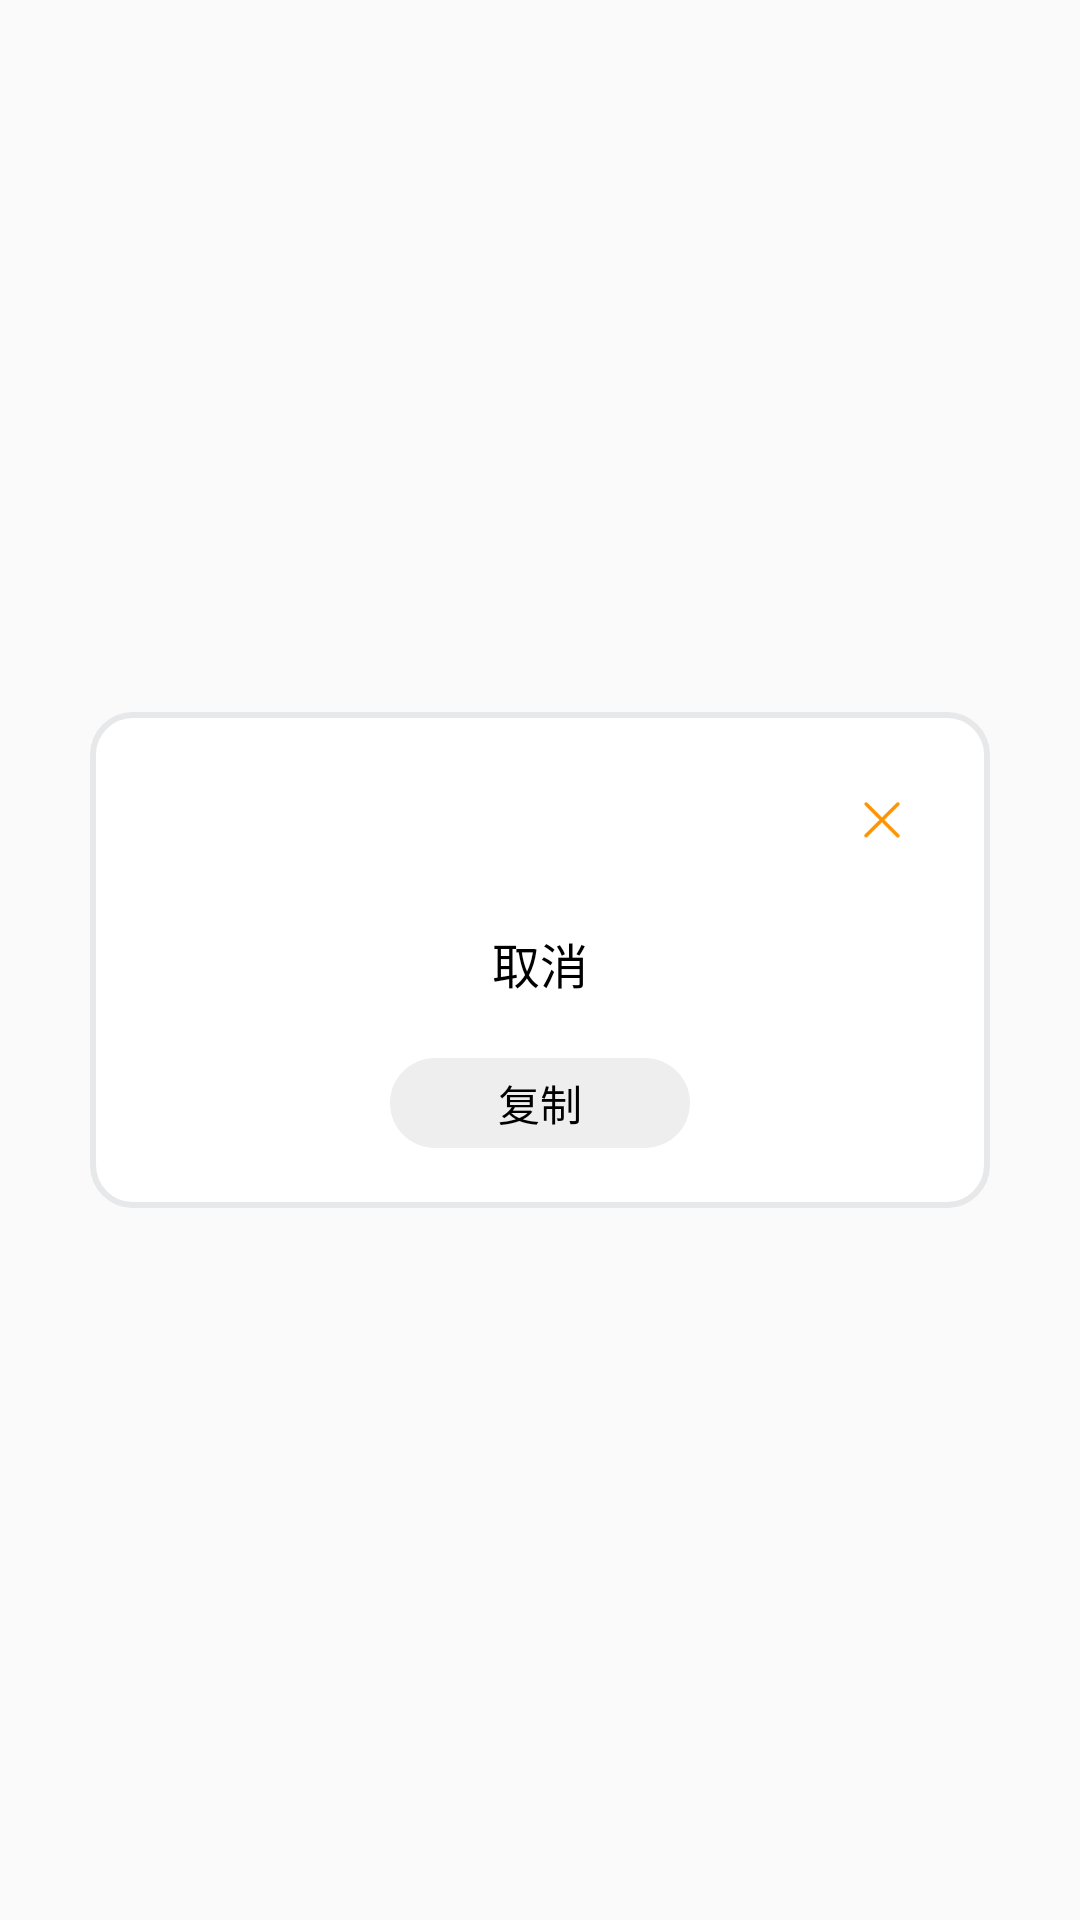

Icon click points for this 1080 × 1920 phone screenshot, format [x,y]:
shareclose: [882,820]
